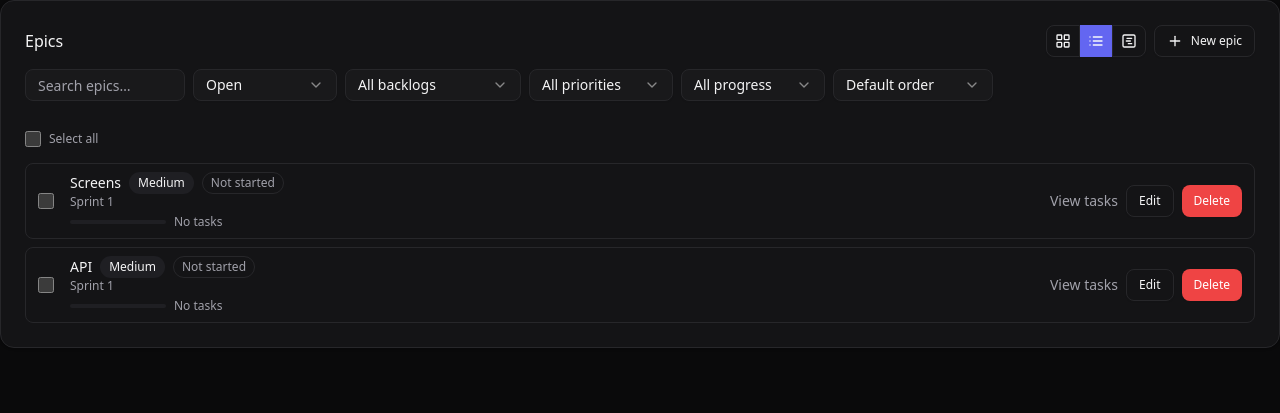
Scenario: the status filter › Bulk actions › applies a bulk priority change to every selected epic
Click the checkbox named "Select all epics" at point(33, 139), box [25,131,41,147]
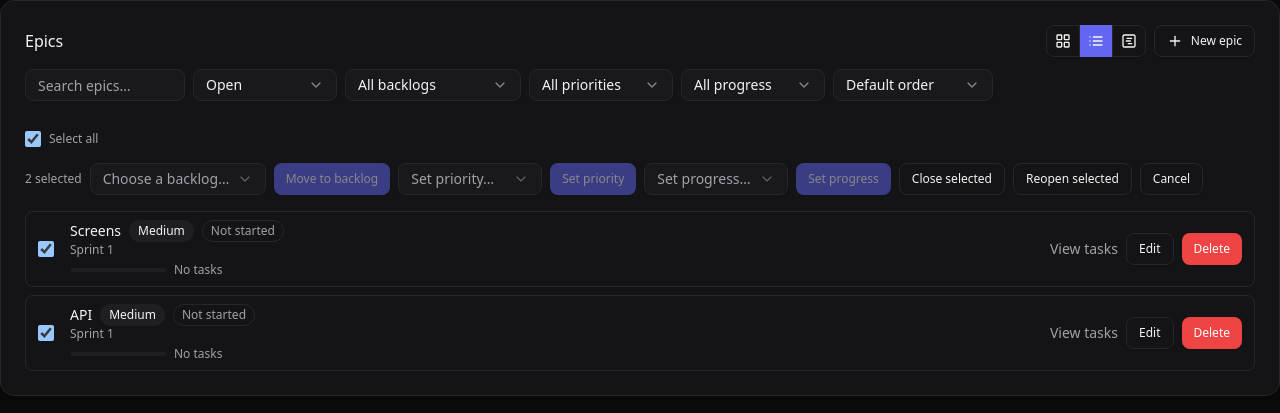
Click the dropdown named "Priority to set" at point(470, 179), box [398,163,542,195]
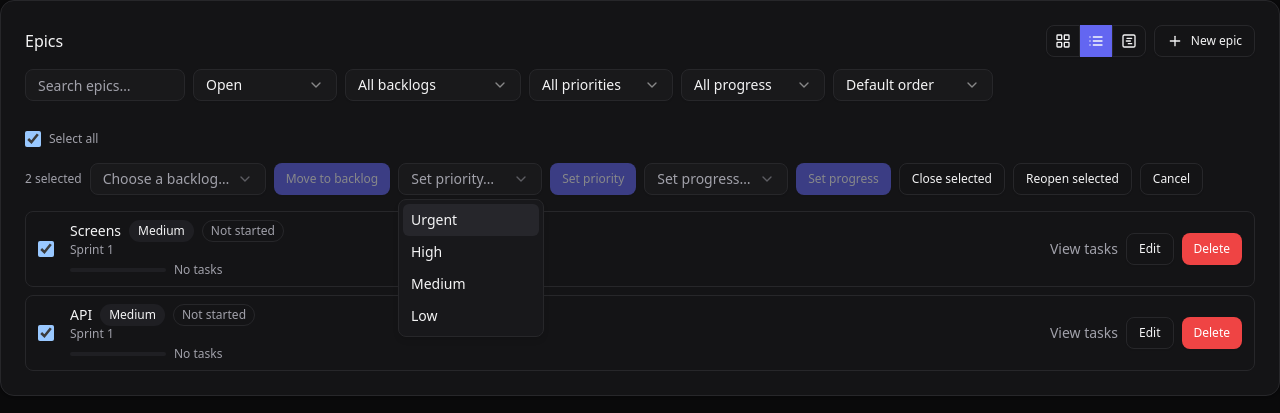
Click the option "Urgent" at point(471, 220), box [403,204,539,236]
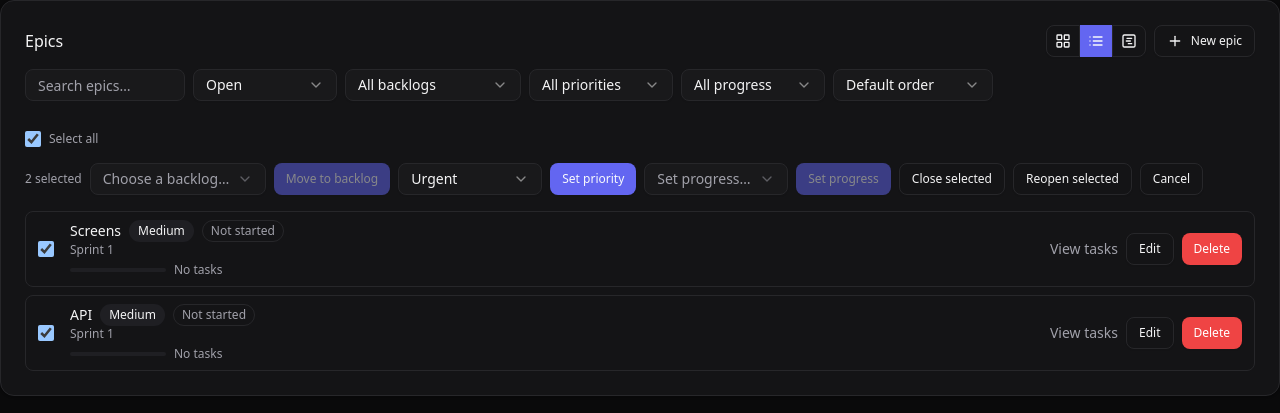
Click the button "Set priority" at point(593, 179), box [550,163,636,195]
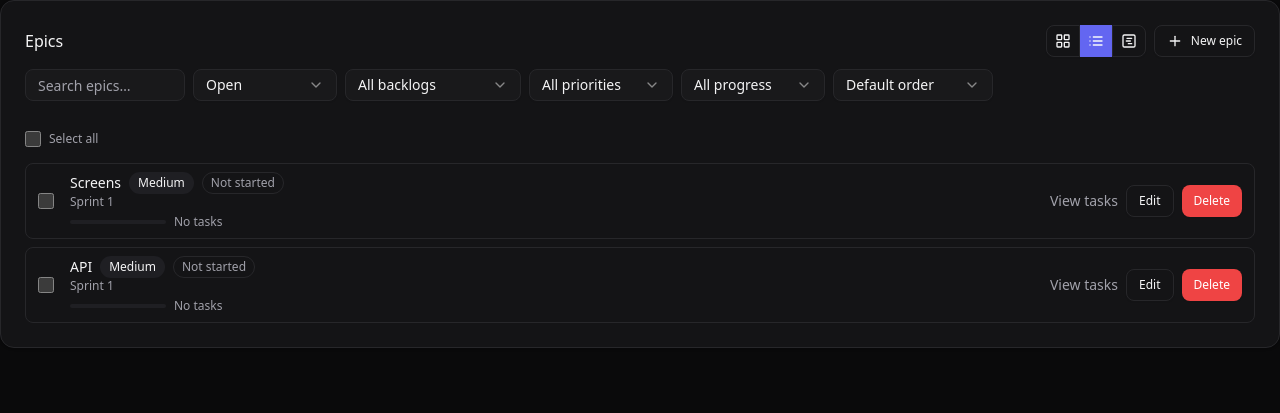
Expected: the text "selected" is gone
